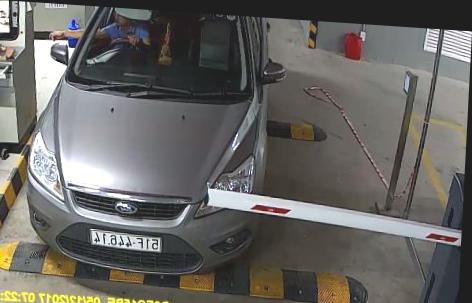License_Plate: (81, 226, 165, 255)
